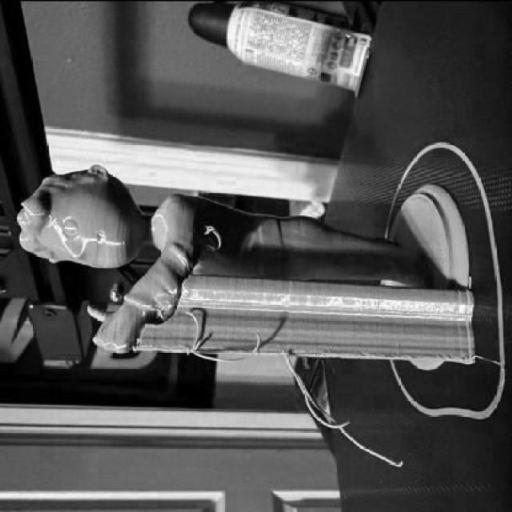spaghetti_and_stringing: (282, 348, 348, 427), (183, 308, 260, 362), (200, 222, 220, 251)
